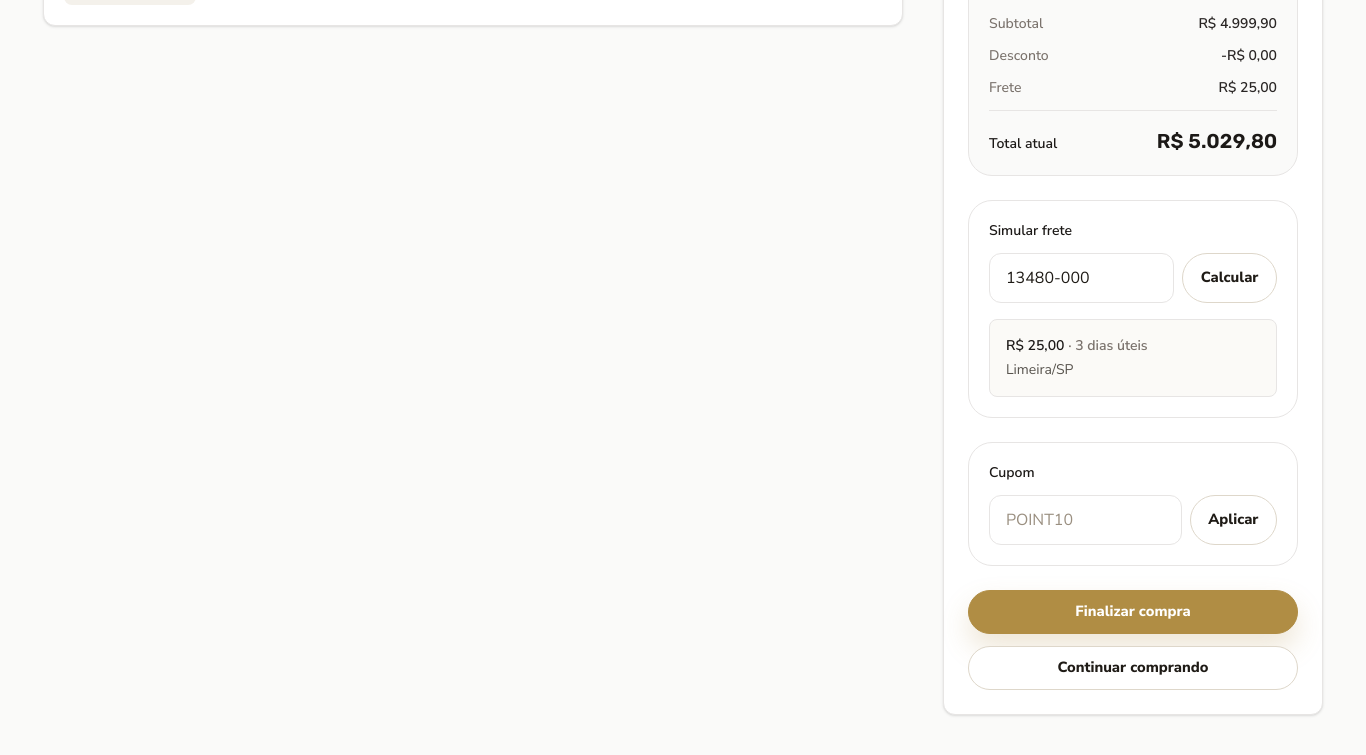
it: CartPage › mostra erro textual ao aplicar cupom inválido
(page scrolled)
In the field with placeholder "POINT10": (1085, 520) [989,495,1182,545], type "ERRO"
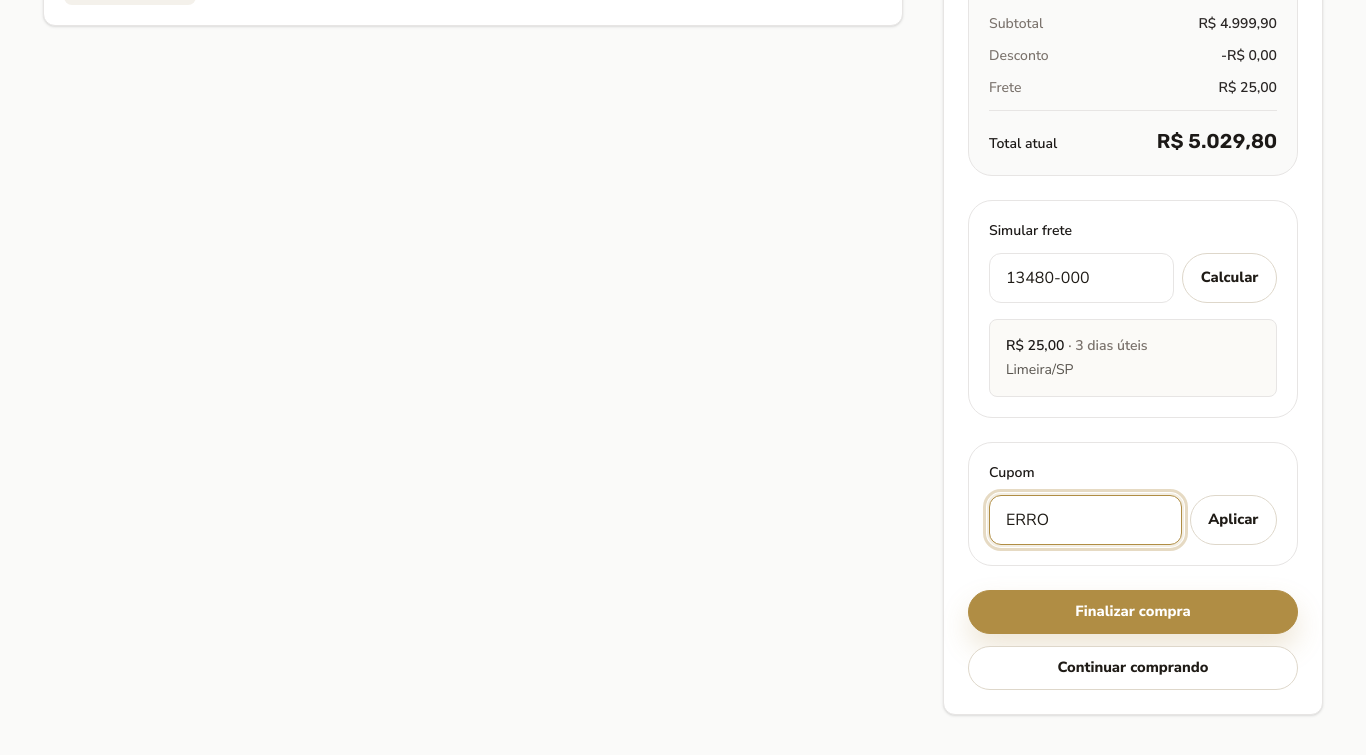
Click the button "Aplicar": (1233, 520) [1190,495,1277,545]
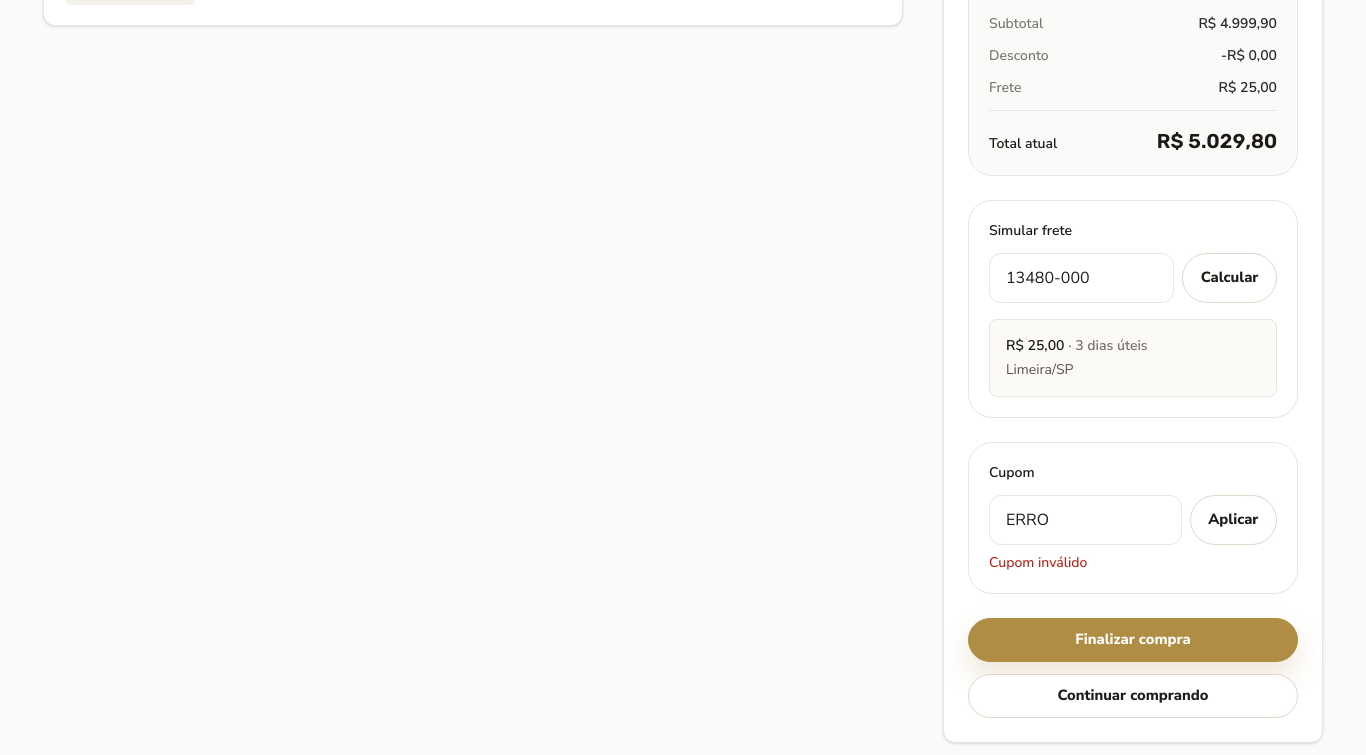
Now the text "Cupom inválido" is shown, box [989,553,1087,572]
